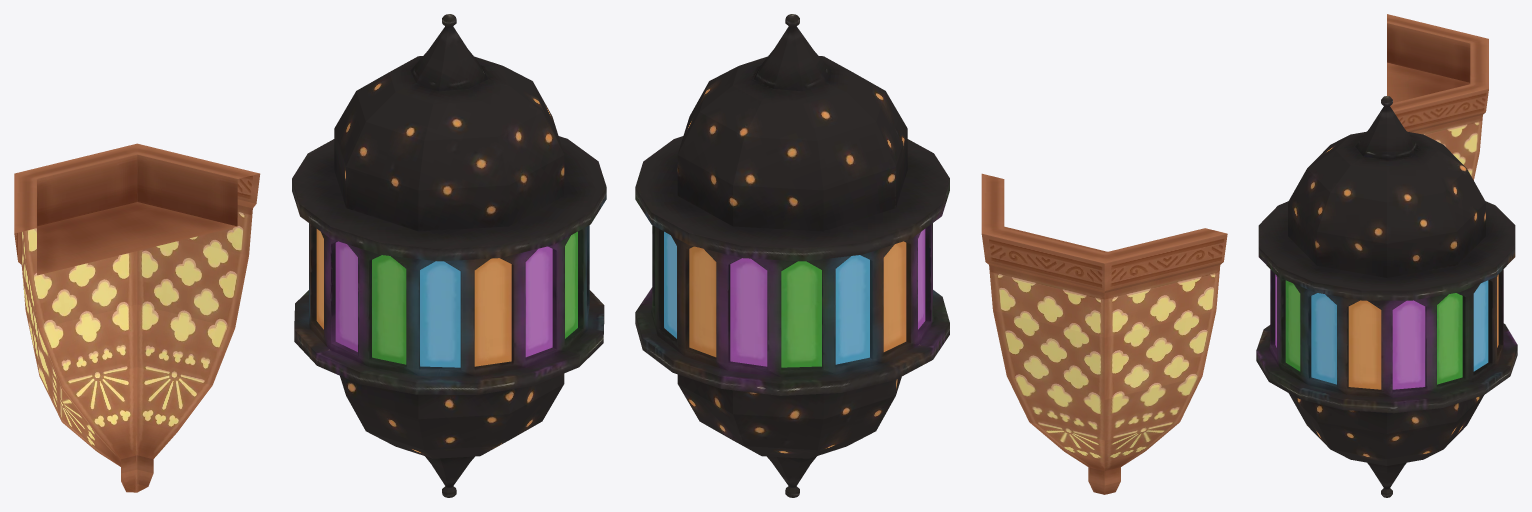
The model's file is lamps-lit.glb.
3 renders of one model, left to right at view 1: azimuth 30°, elevation 25°; view 2: azimuth 150°, elevation 25°; view 3: azimuth 270°, elevation 25°, orthographic. The views are drawn at different scales.
Parts seen in each view (by area): view 1: hangingLamp_Lamp_MAT_0; view 2: hangingLamp_Lamp_MAT_0; view 3: hangingLamp_Lamp_MAT_0.
Boxes of the visible parts, x1,y1,x2,y2 form: hangingLamp_Lamp_MAT_0: [14, 14, 606, 497]; hangingLamp_Lamp_MAT_0: [635, 14, 1227, 497]; hangingLamp_Lamp_MAT_0: [1256, 14, 1517, 497].
Size of the model in its own units: 0.0465 by 0.0375 by 0.0222.
Materials: 1 (1 with a texture image).
